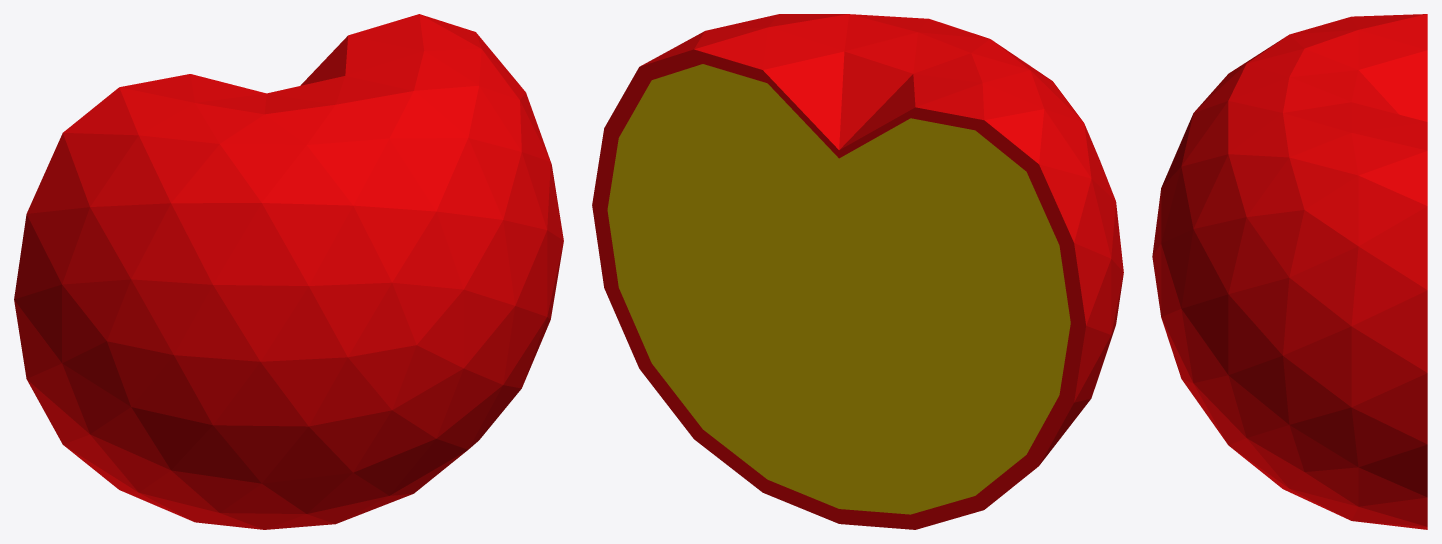
Rendered from pomme.fbx.
3 views of the same model, side by side, from view 1: azimuth 30°, elevation 25°; view 2: azimuth 150°, elevation 25°; view 3: azimuth 270°, elevation 25° (orthographic). The views are drawn at different scales.
Parts seen in each view (by area): view 1: Icosphere; view 2: Icosphere; view 3: Icosphere.
Boxes of the visible parts, left/top/right/bottom form: Icosphere: left=14, top=14, right=563, bottom=529; Icosphere: left=592, top=14, right=1123, bottom=529; Icosphere: left=1152, top=14, right=1427, bottom=529.
Size of the model in its own units: 200 by 171 by 100.
